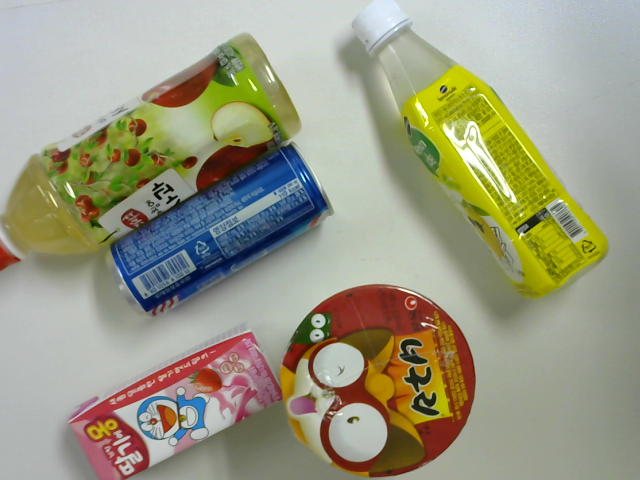Morning_Apple_500ml: (3, 28, 299, 266)
Pepsi_Cola_Can_250ml: (105, 138, 329, 308)
Raccoon: (281, 286, 471, 480)
Strawberry_E_Mong: (65, 328, 281, 480)
Sunkist_Lemonaid_Pet: (349, 1, 609, 298)
